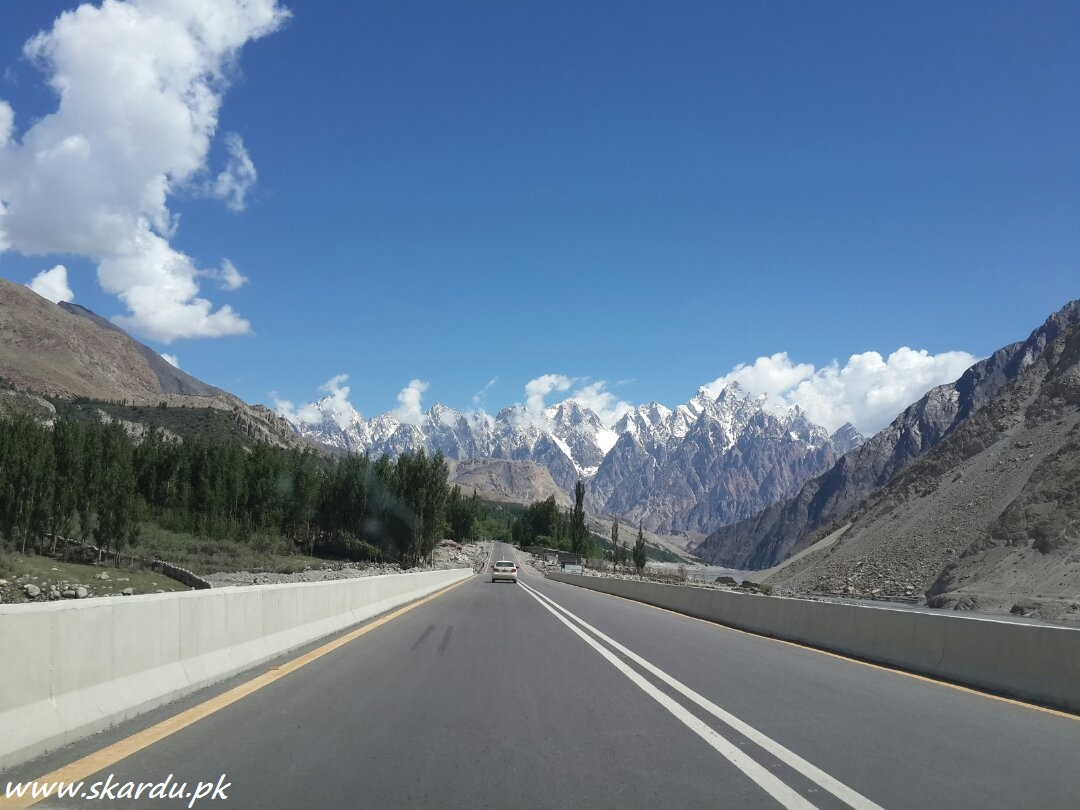straightRoad: (318, 582, 839, 810)
